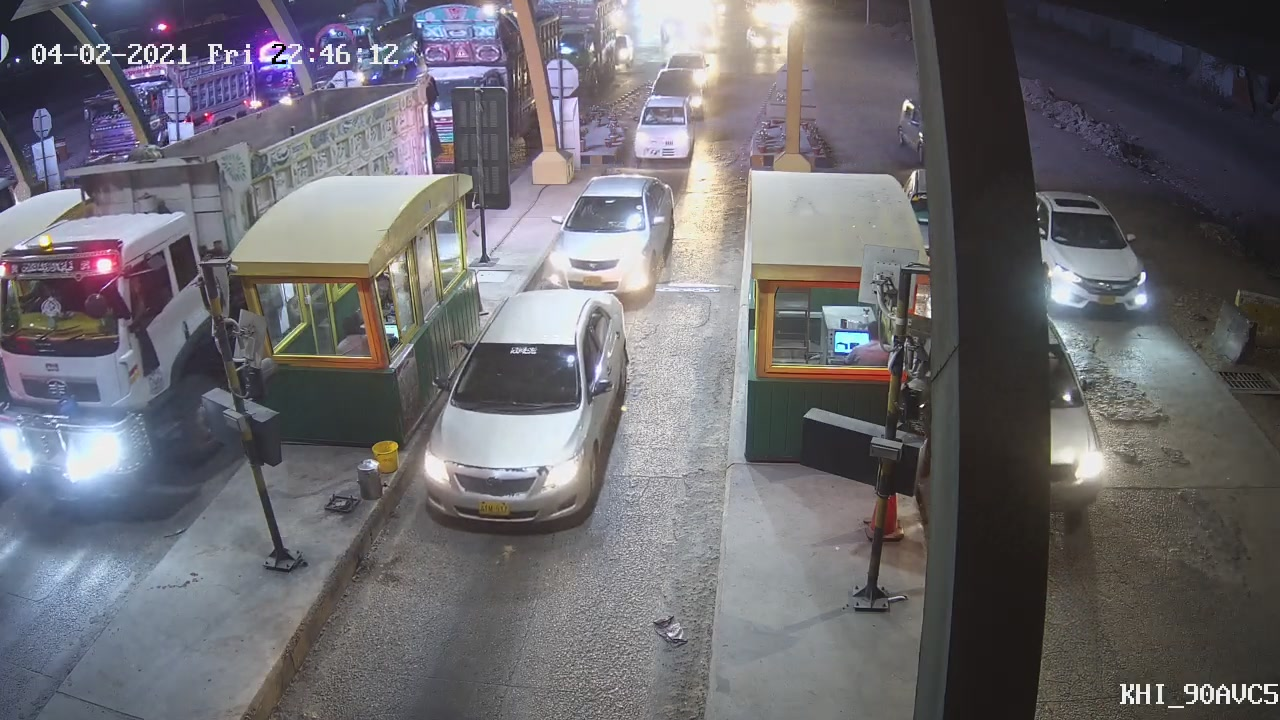F1: (413, 287, 639, 532), (537, 156, 693, 310)
